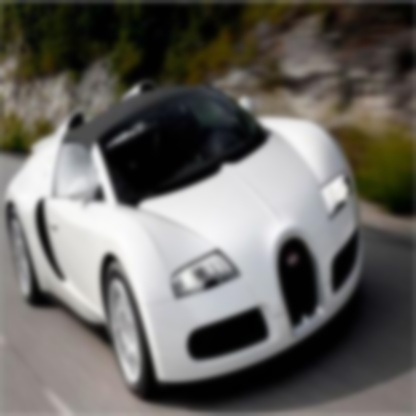Vehicle: (7, 84, 362, 401)
